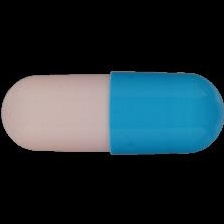54868-6197: (0, 0, 224, 224)
